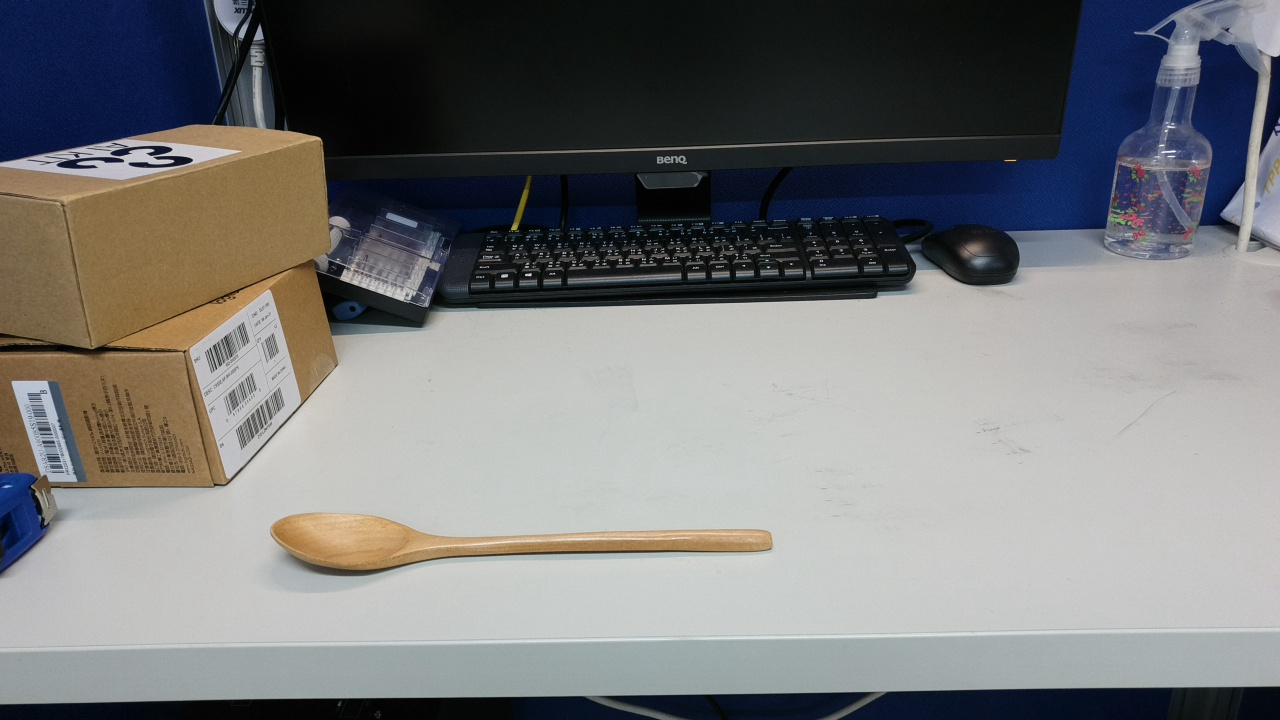long: (328, 515, 659, 593)
